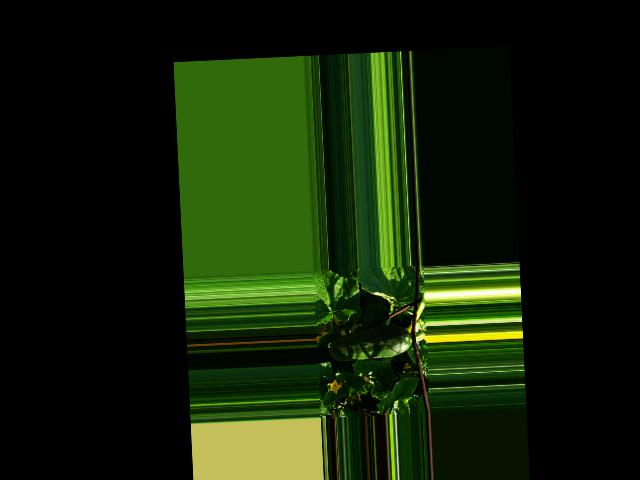cucumber: (327, 322, 412, 361)
